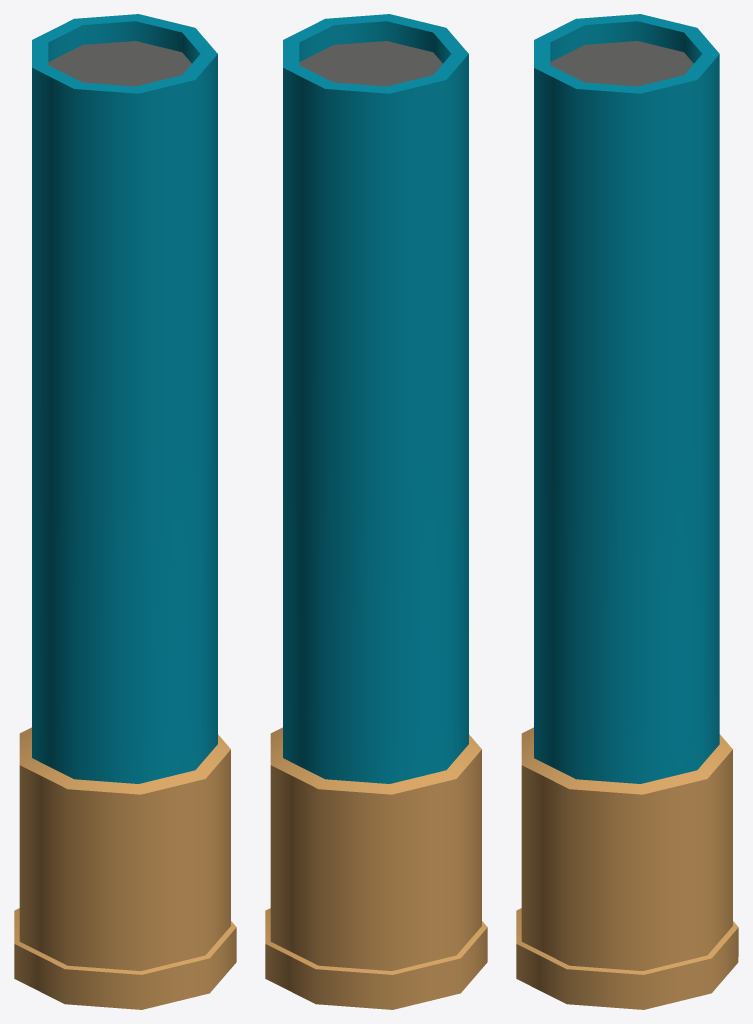
Rendered from SM_Bullet_08.fbx.
3 renders of one model, left to right at view 1: azimuth 30°, elevation 25°; view 2: azimuth 150°, elevation 25°; view 3: azimuth 270°, elevation 25°, orthographic.
Parts seen in each view (by area): view 1: SM_Bullet_08; view 2: SM_Bullet_08; view 3: SM_Bullet_08.
Boxes of the visible parts, x1,y1,x2,y2 form: SM_Bullet_08: (14, 14, 236, 1009); SM_Bullet_08: (265, 14, 487, 1009); SM_Bullet_08: (516, 14, 738, 1009).
Bounding box in the file's own units: 4.67 × 20.75 × 4.6.
Materials: 1 (1 with a texture image).
